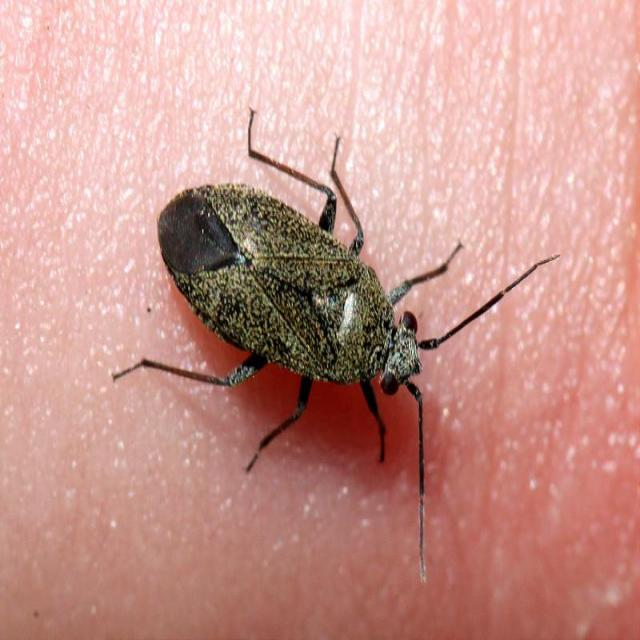Miridae-Adult-: (109, 104, 490, 485)
